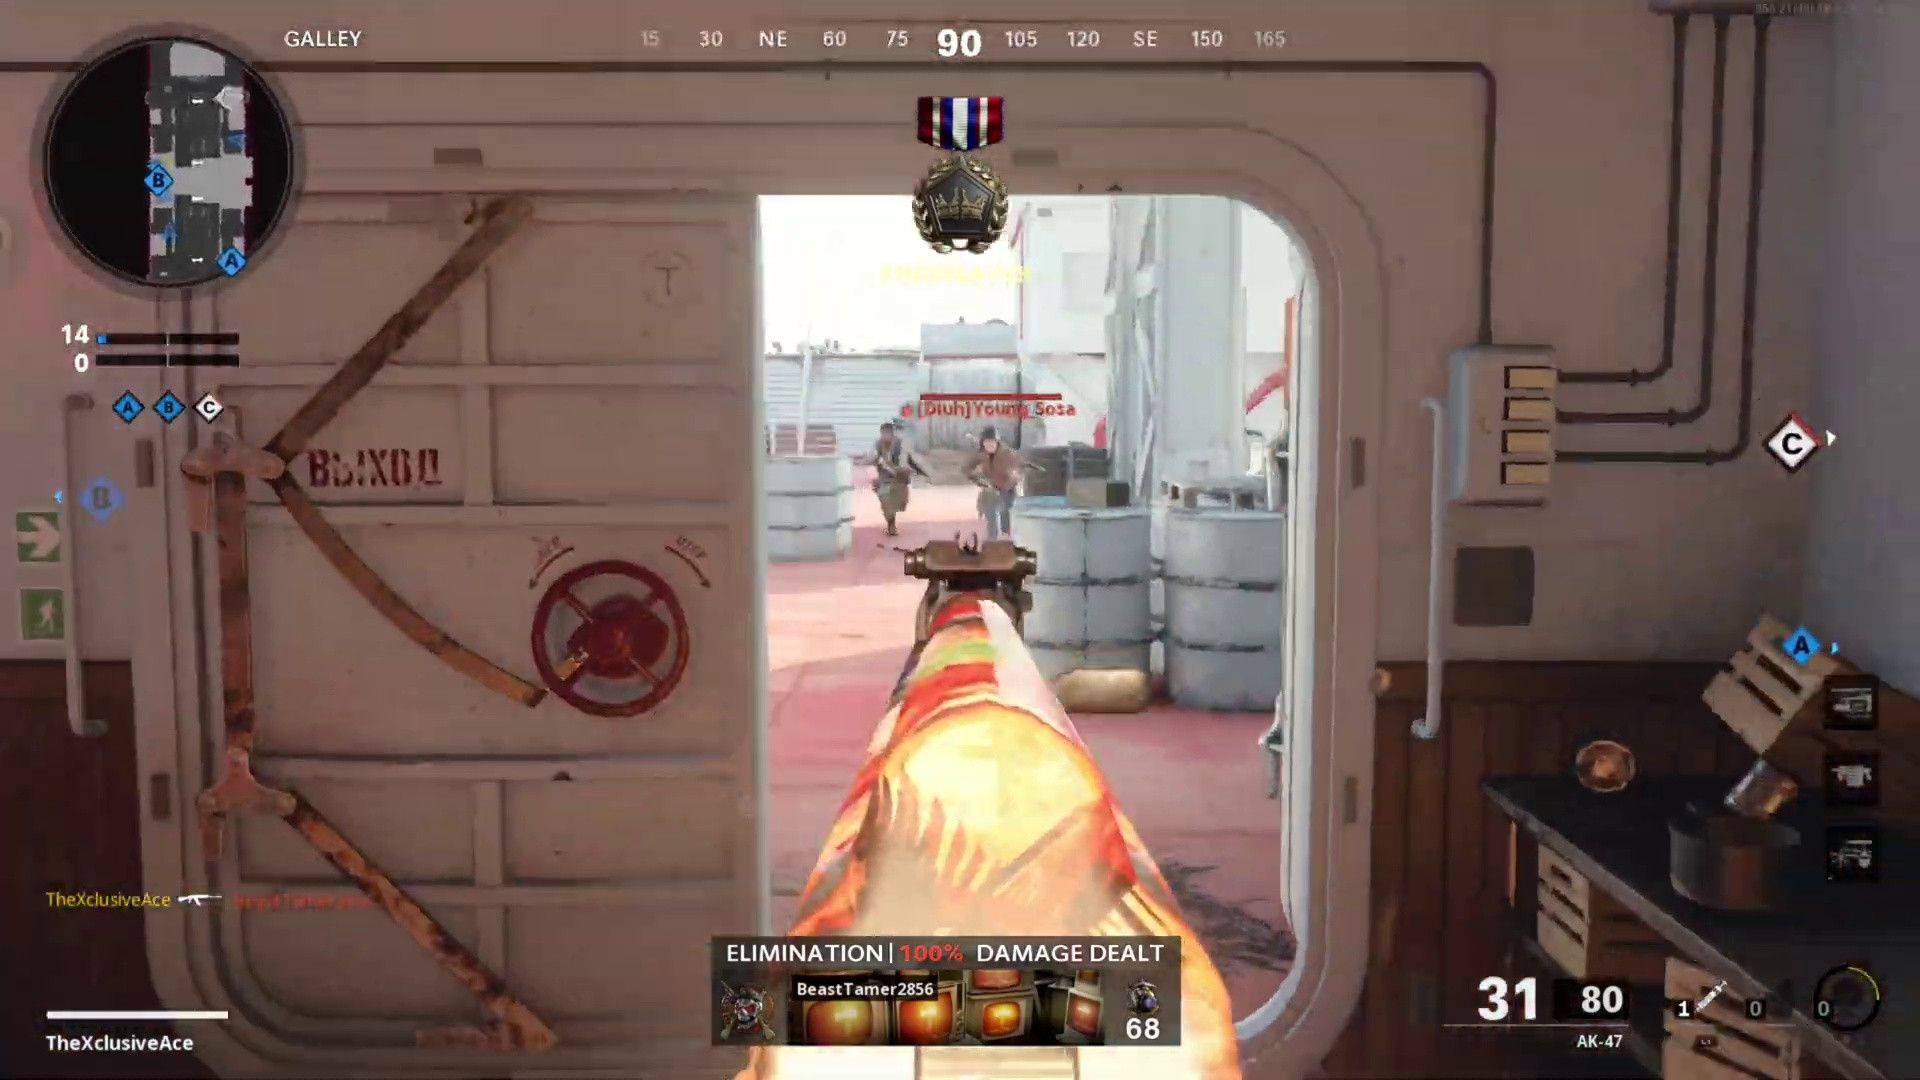head: (977, 425, 1004, 459), (876, 421, 898, 449)
person: (868, 419, 924, 536), (963, 426, 1019, 541)
